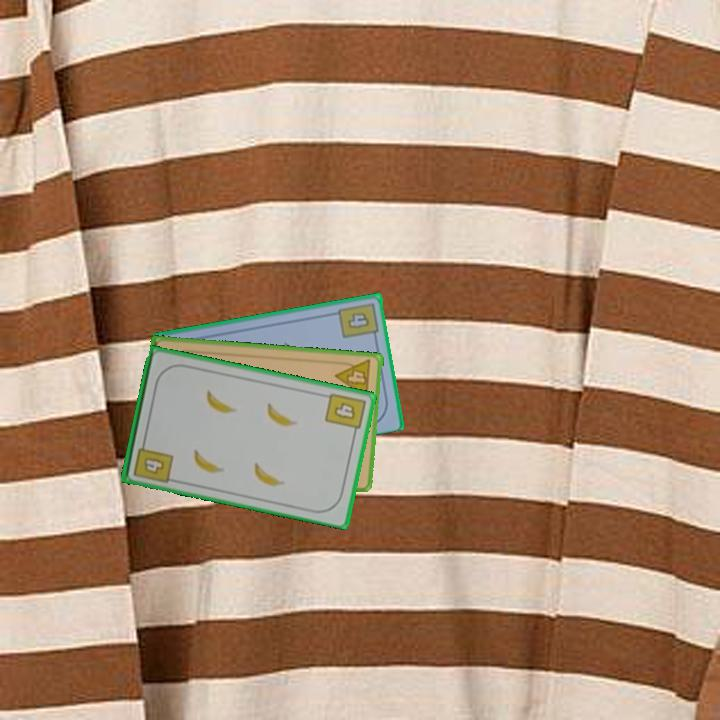4b: (321, 389, 368, 438), (130, 436, 176, 486), (335, 299, 381, 342)
4p: (333, 356, 374, 401)
